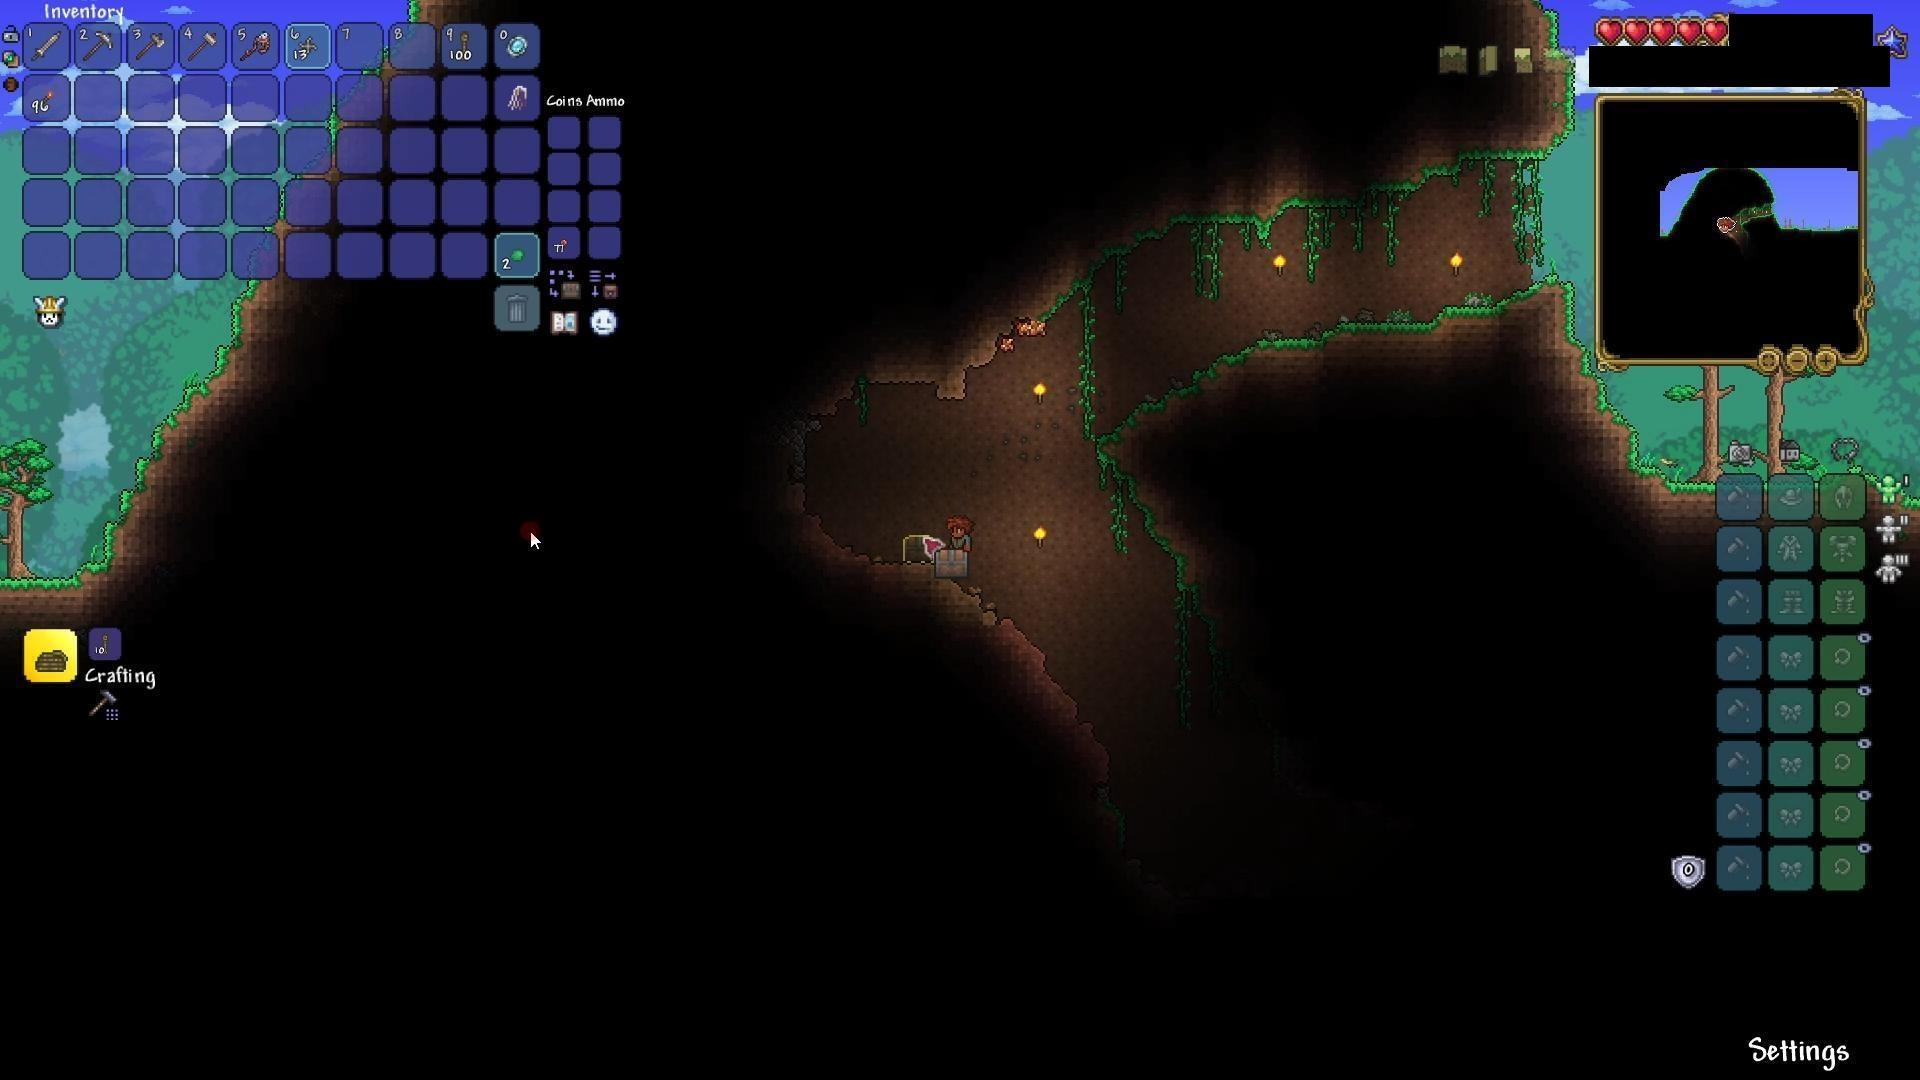dirt: (1097, 270, 1571, 436), (102, 286, 266, 554), (1092, 443, 1230, 638), (1565, 357, 1673, 485), (1407, 124, 1590, 199), (1130, 193, 1418, 240), (1534, 3, 1586, 125), (0, 567, 120, 608), (1644, 479, 1720, 506)
heart: (1702, 17, 1733, 51), (1593, 16, 1626, 46), (1676, 15, 1704, 50), (1650, 16, 1676, 49), (1625, 15, 1651, 44)
tree: (0, 433, 61, 582)
